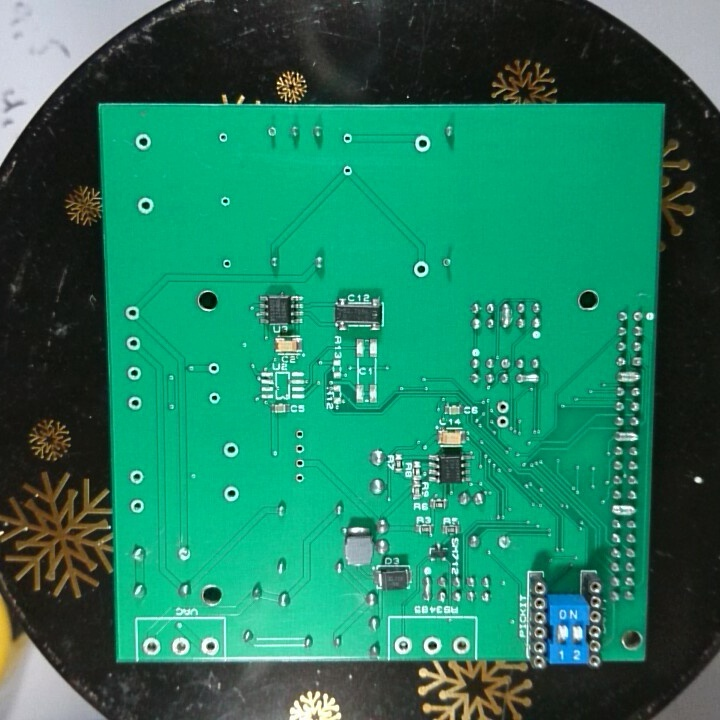F: (132, 129, 156, 155), (168, 634, 193, 657), (140, 634, 163, 658), (197, 635, 221, 658), (390, 633, 414, 656), (124, 392, 147, 415), (410, 259, 432, 283), (121, 303, 145, 325), (124, 363, 146, 386), (421, 634, 444, 656), (133, 195, 158, 215), (220, 439, 241, 462), (412, 133, 433, 155), (174, 543, 195, 564), (450, 634, 471, 655), (124, 333, 143, 355), (494, 532, 513, 553), (221, 486, 243, 504), (127, 468, 147, 487), (128, 497, 146, 517), (205, 389, 222, 409), (204, 360, 222, 378), (497, 354, 513, 373), (493, 413, 510, 430), (340, 162, 356, 180), (264, 124, 280, 141), (494, 398, 511, 414), (292, 468, 307, 486), (216, 129, 230, 146), (440, 255, 455, 270), (292, 427, 307, 442), (292, 455, 307, 470), (219, 193, 233, 209), (631, 309, 647, 323), (341, 131, 354, 147), (292, 442, 306, 456), (219, 256, 234, 269)
P: (610, 502, 636, 517), (500, 300, 512, 329), (616, 370, 641, 383), (613, 430, 638, 443), (515, 372, 539, 385), (421, 575, 432, 601)
